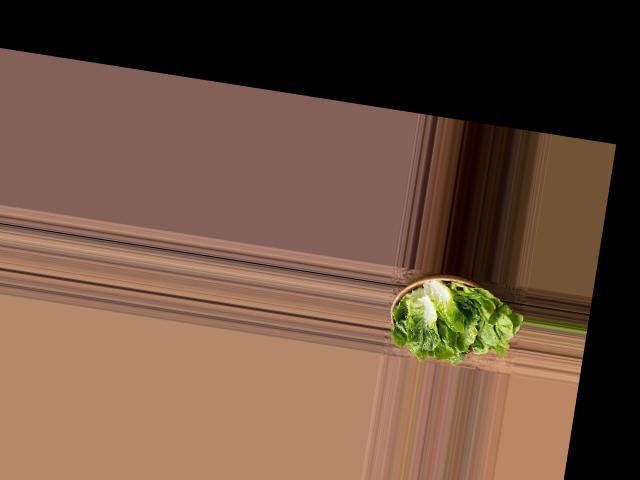lettuce: (379, 267, 525, 370)
